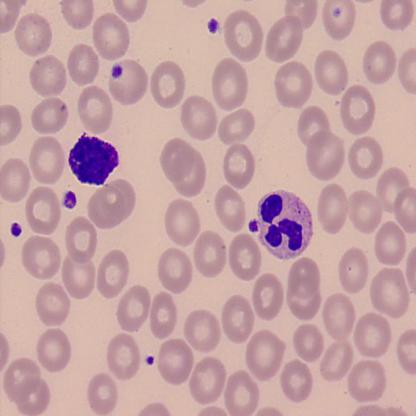Basophil: (66, 128, 120, 187)
